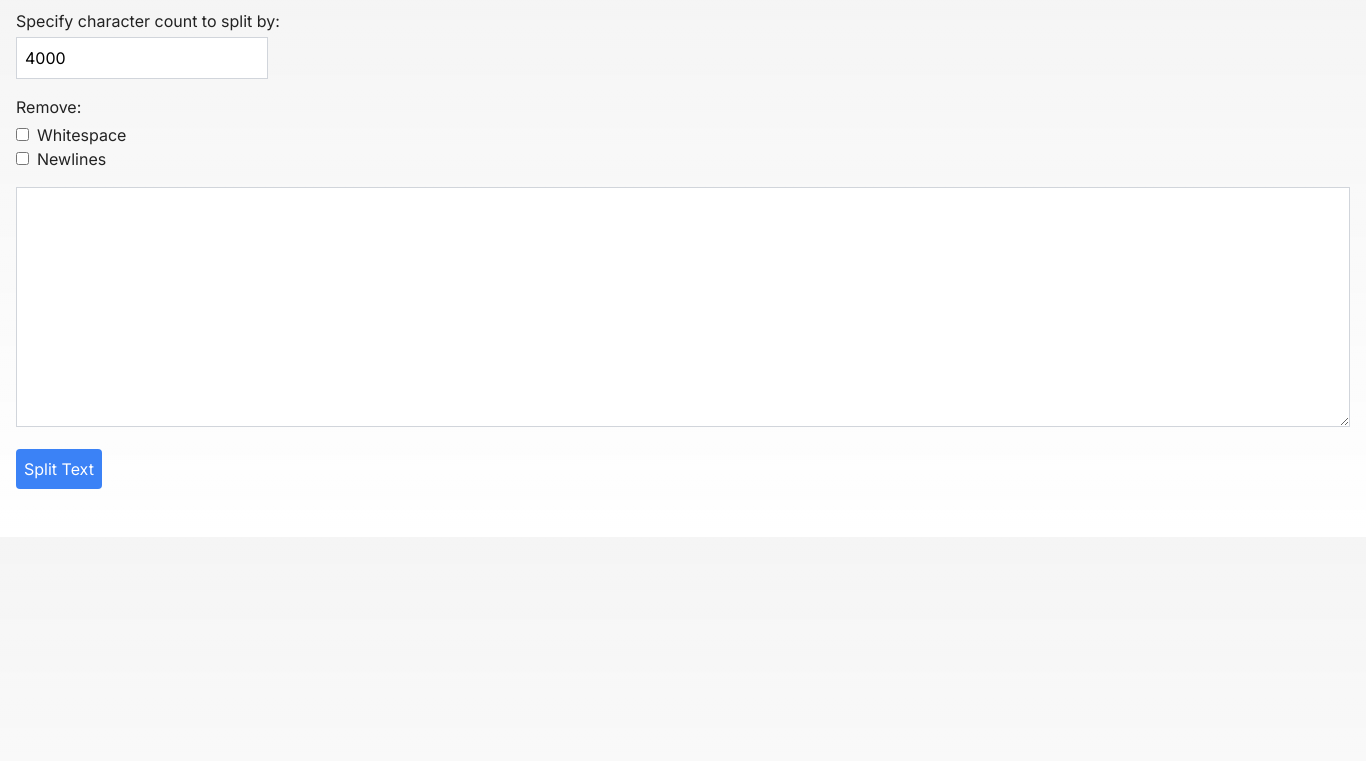
Test case: TextSplitter Component › splits text into chunks of specified size when button is clicked with whitespace removal
Replace the text in the number field labelled "Specify character count to split by:" with "50". click: (142, 58)
box: [16,37,268,79]
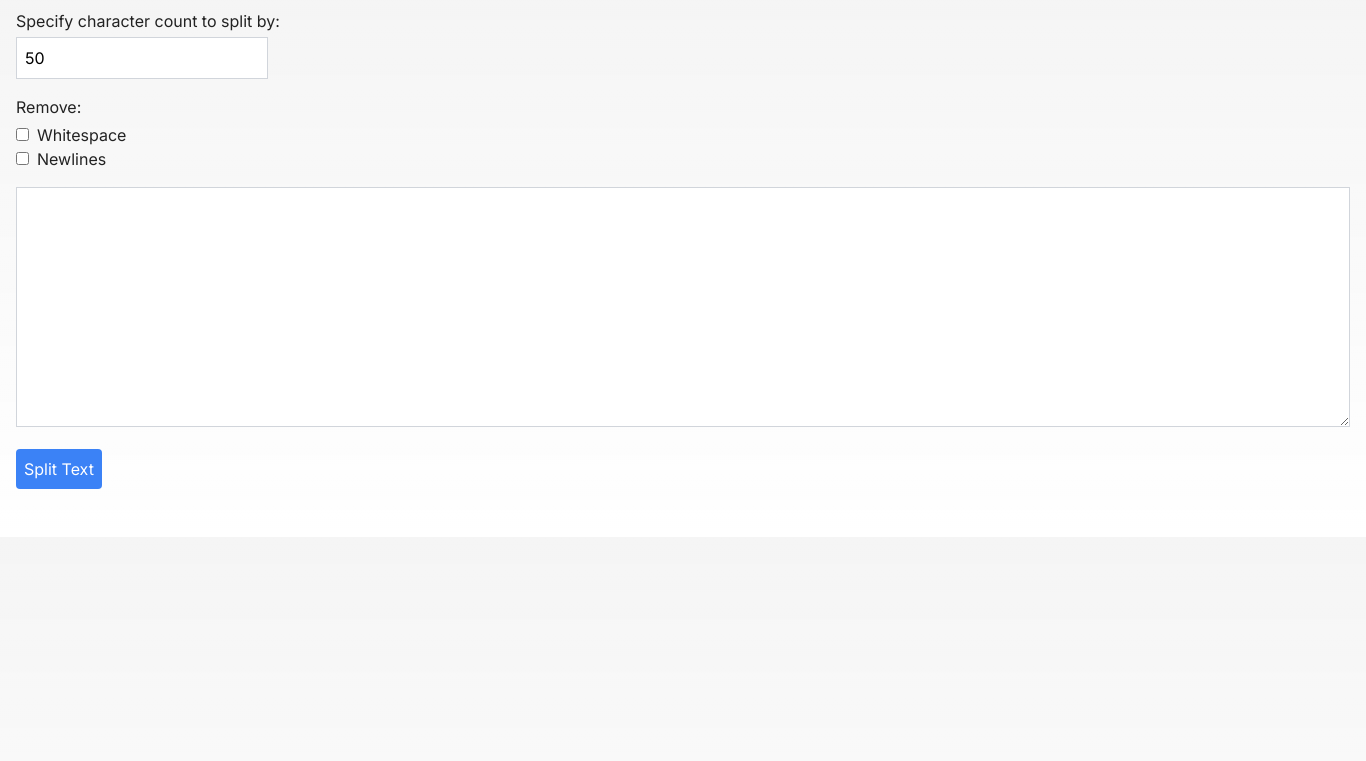
Click the checkbox labelled "Whitespace". click: (22, 134)
box: [16,128,29,141]
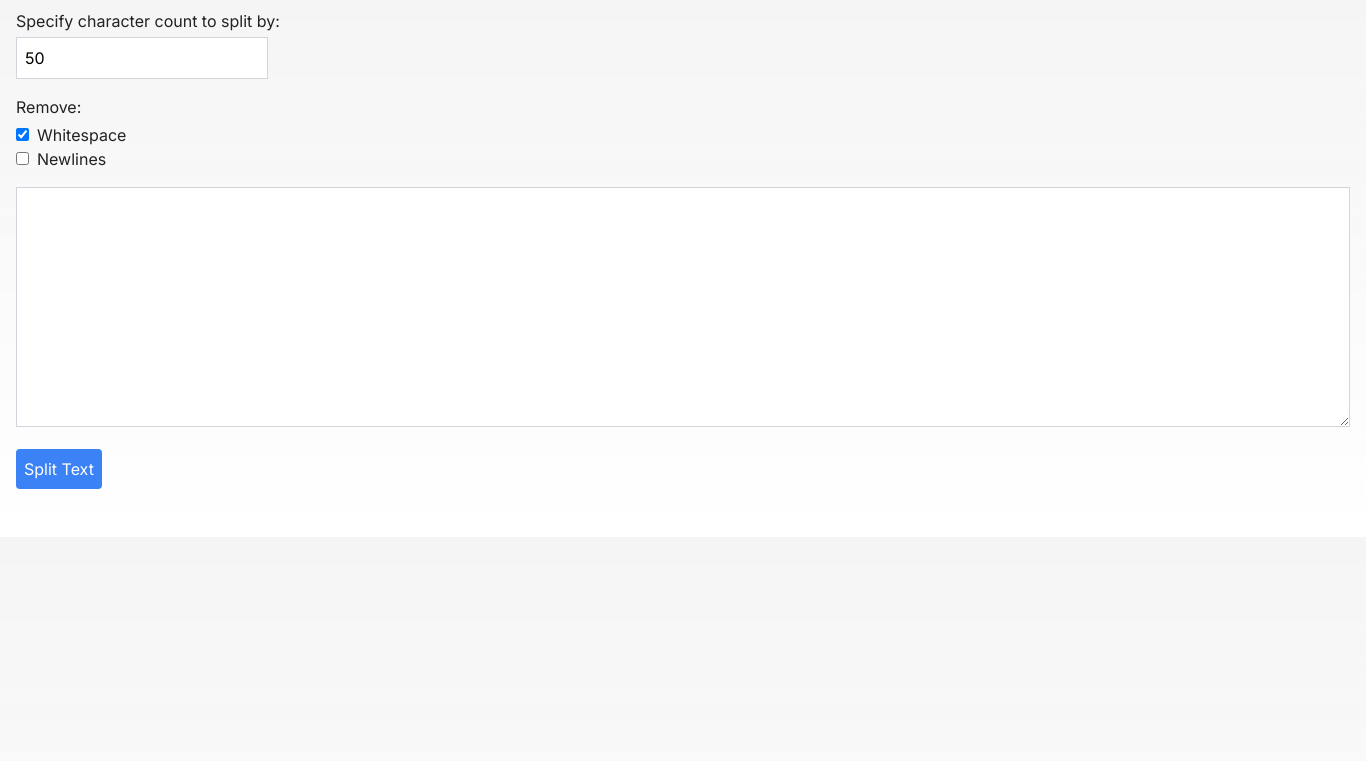
Type "This is a longer test string that should be split into several smaller chunks based on the specified chunk size." into the text box. click: (683, 307)
box: [16,187,1350,427]
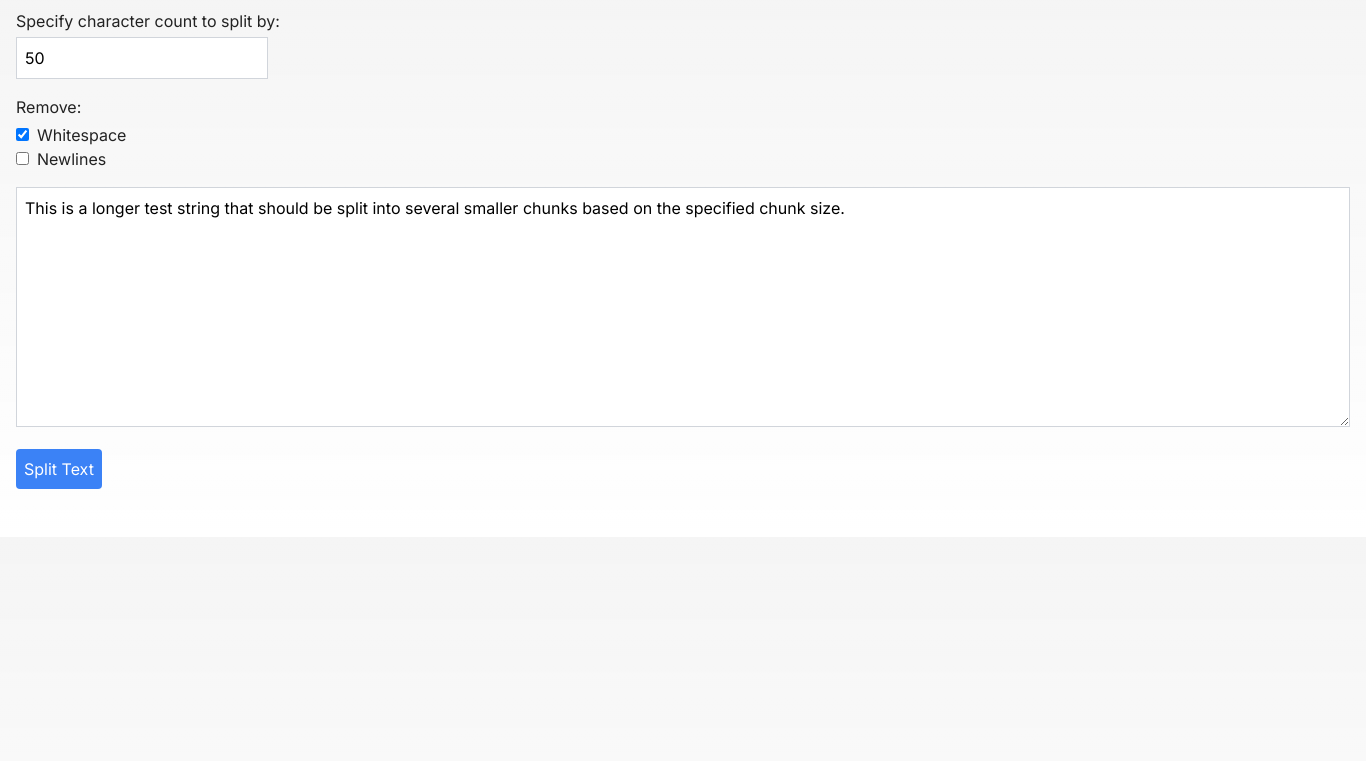
Click the button "Split Text". click: (59, 469)
box: [16,449,102,489]
(page scrolled)
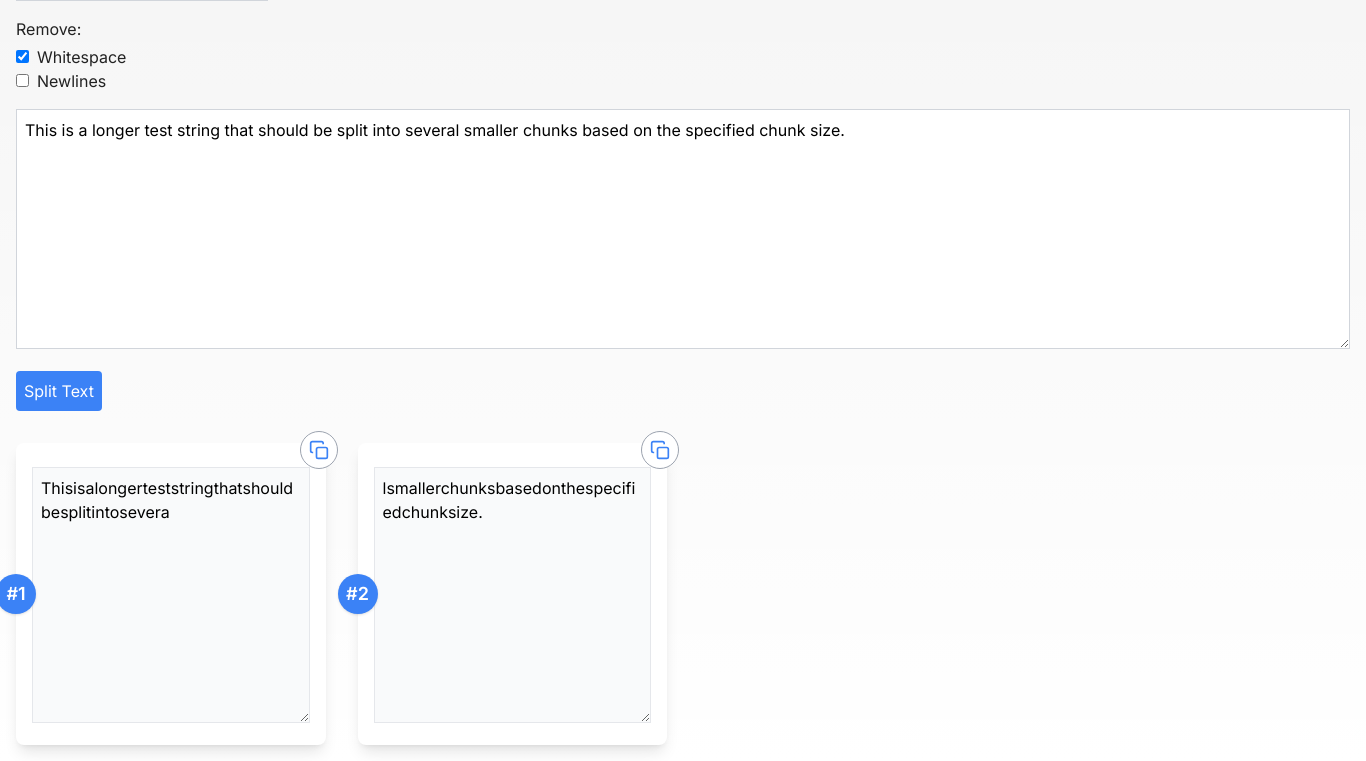
Expected: the number of text boxes named "chunk" is 2, [32,467,310,723]; [374,467,651,723]
